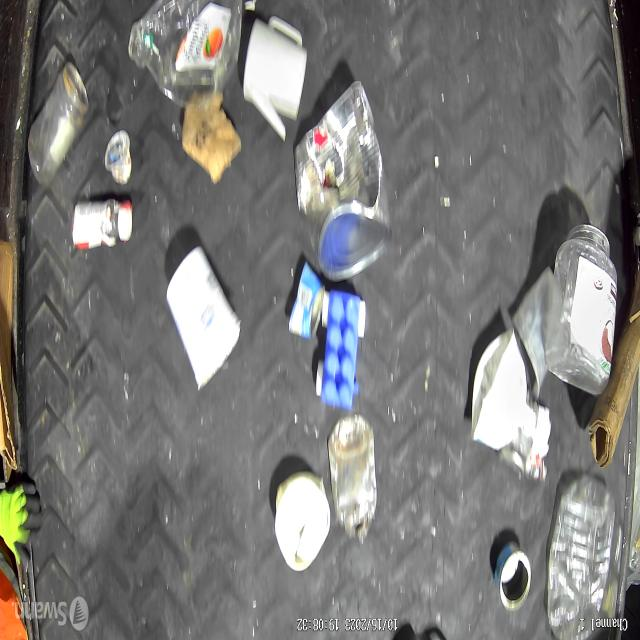can: (293, 74, 395, 286), (286, 265, 324, 344), (493, 542, 532, 612), (503, 397, 538, 473)
plastic_bottle: (127, 0, 244, 110), (544, 474, 612, 640)
